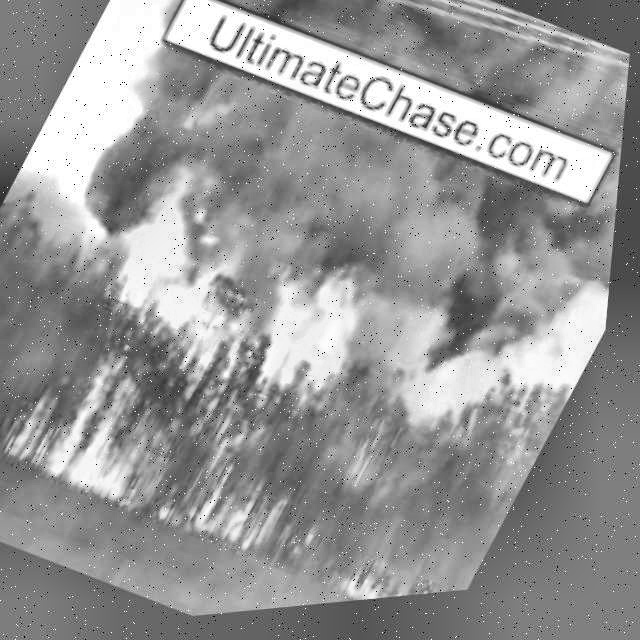Fire: (4, 137, 436, 585), (349, 572, 426, 610)
Smoke: (0, 0, 638, 492), (180, 0, 640, 226)
